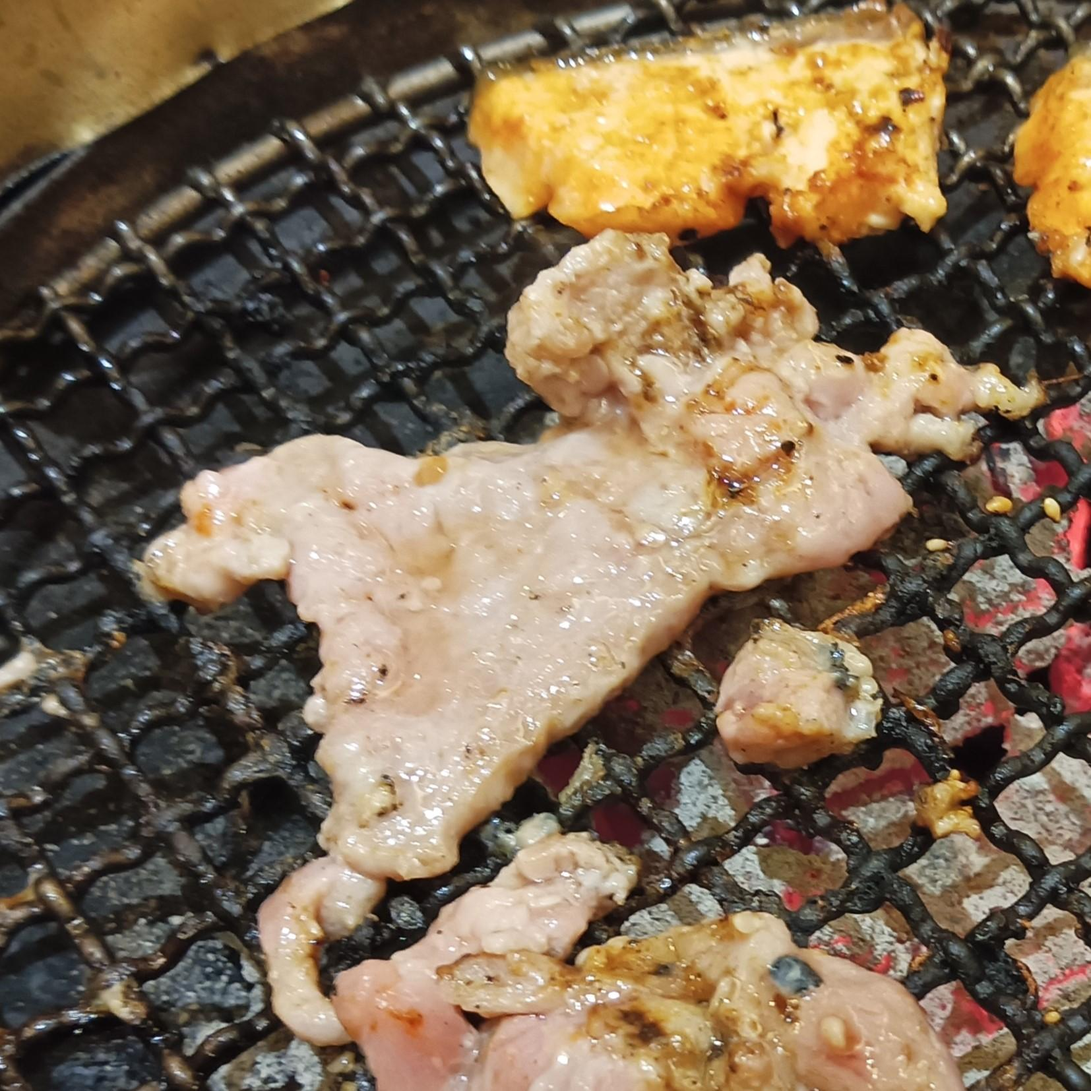Undercooked: (137, 233, 974, 1053), (352, 832, 966, 1090), (712, 621, 889, 779)
Well-Cooked: (467, 5, 949, 244)
